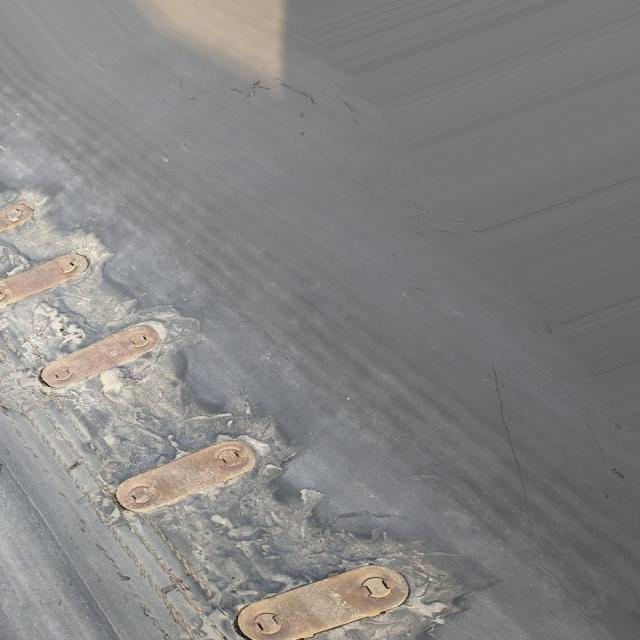patch work: (0, 180, 464, 640)
